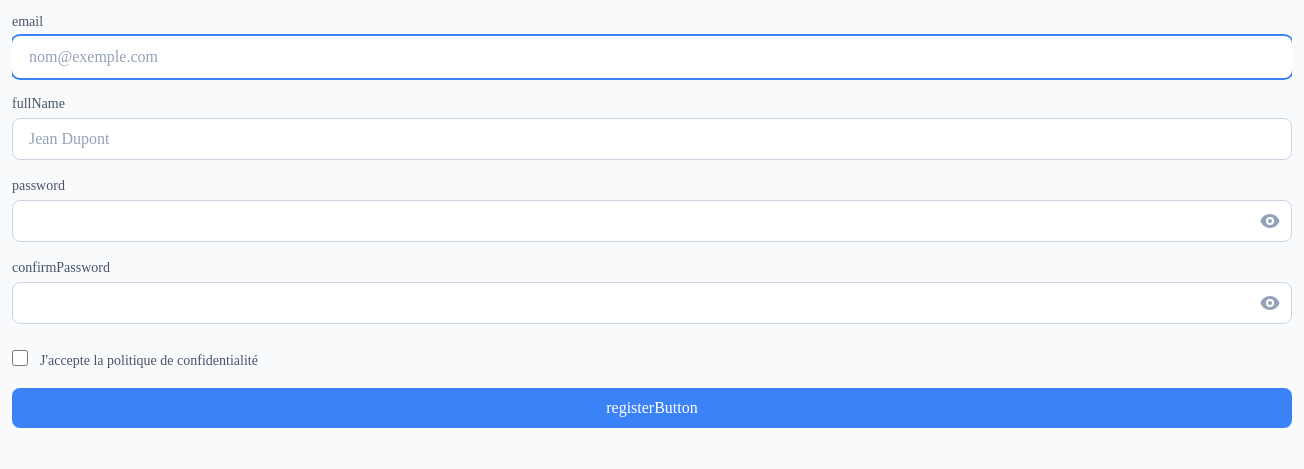
RegisterForm › shows success message on successful registration
In the field labelled "email": (652, 57) [12,36,1292,78], type "test@example.com"
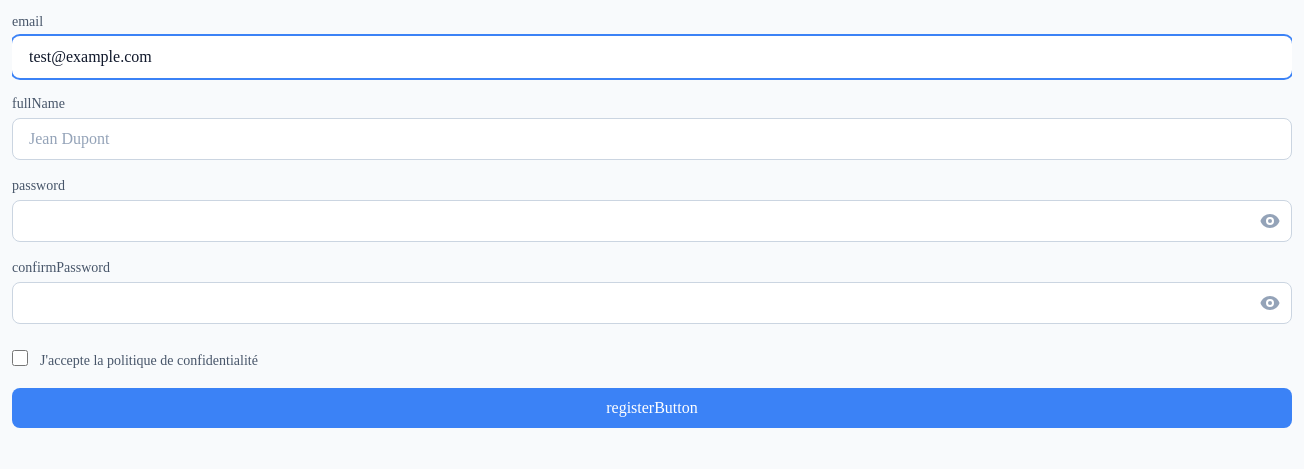
In the password field labelled "password": (652, 221) [12,200,1292,242], type "securepassword123"
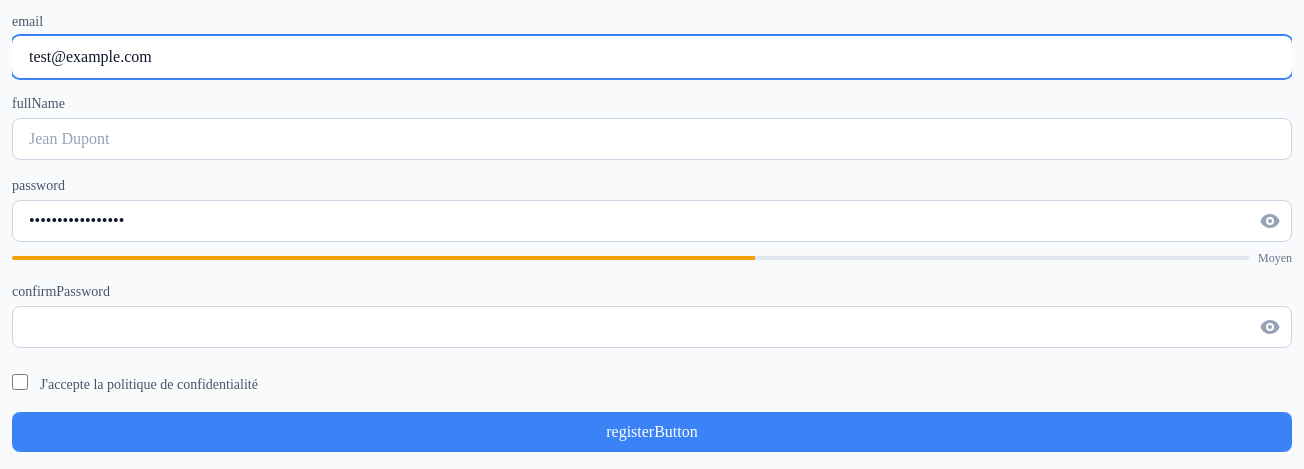
In the password field labelled "confirmPassword": (652, 327) [12,306,1292,348], type "securepassword123"
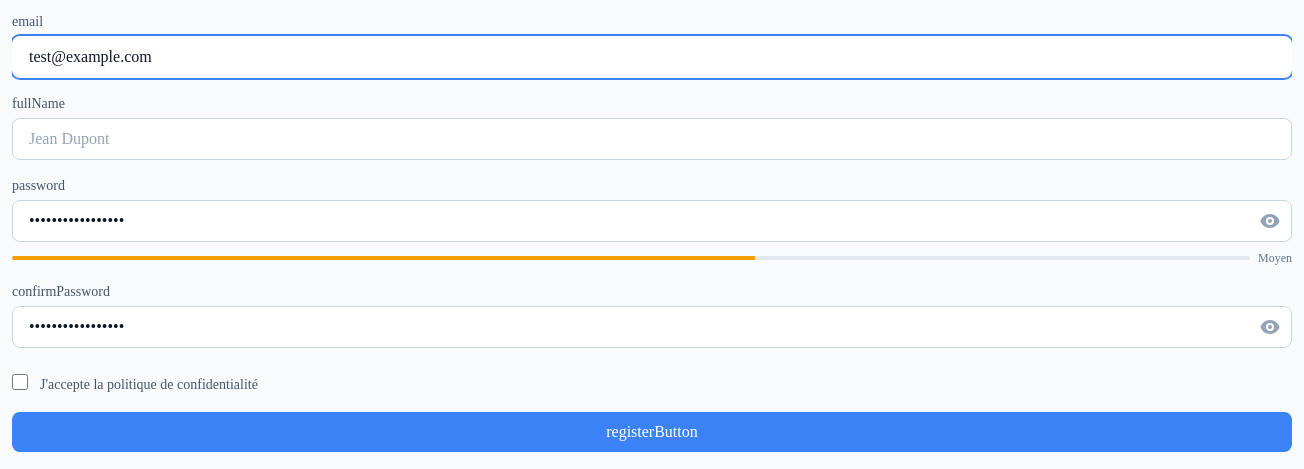
Click the checkbox: (20, 382) [12,374,28,390]
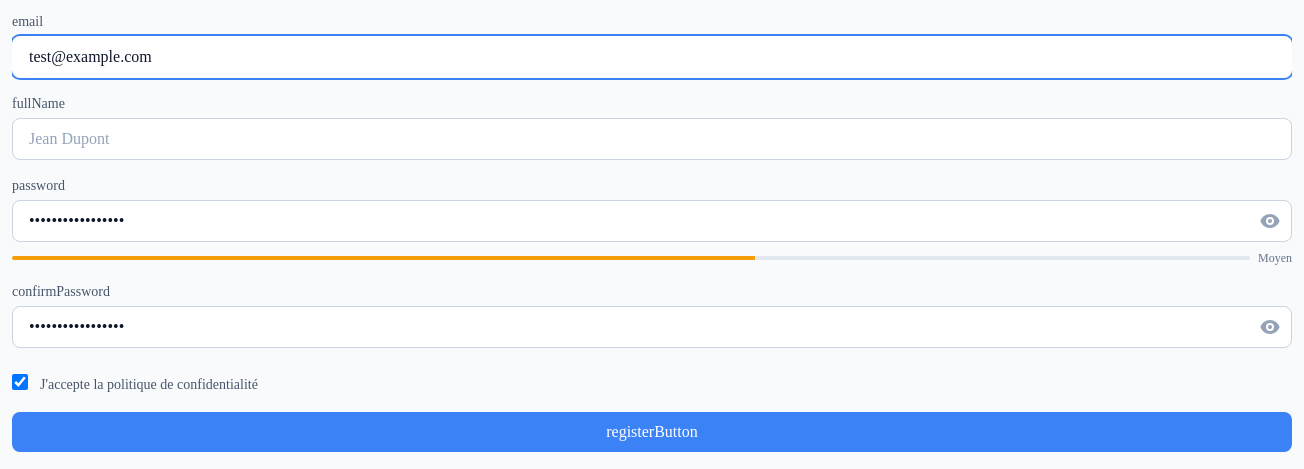
Click the button "registerButton": (652, 432) [12,412,1292,452]
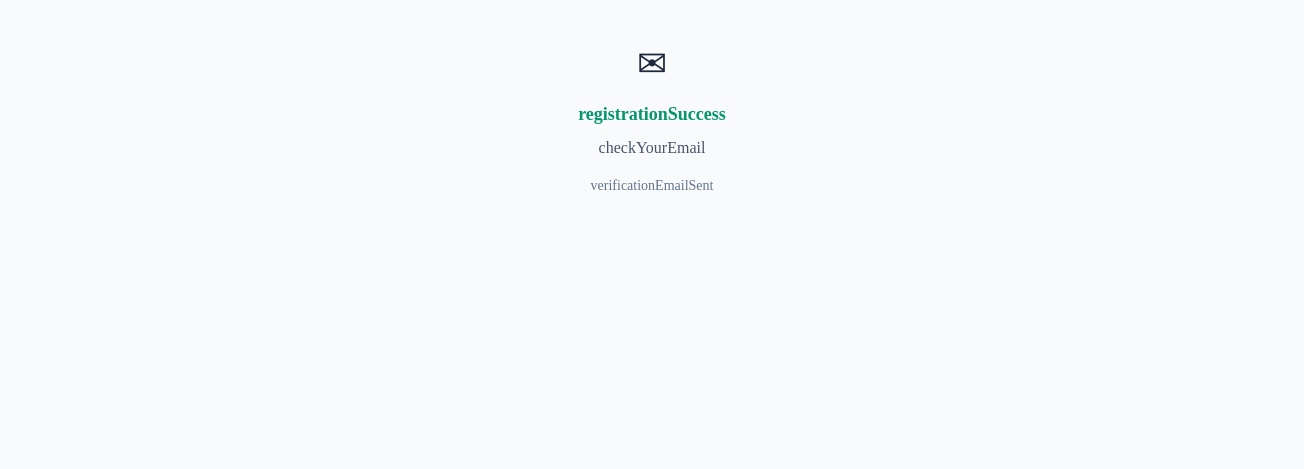
Result: the heading "registrationSuccess" is shown at [578,104,726,124]
Result: the text "checkYourEmail" is shown at [599,139,705,156]
